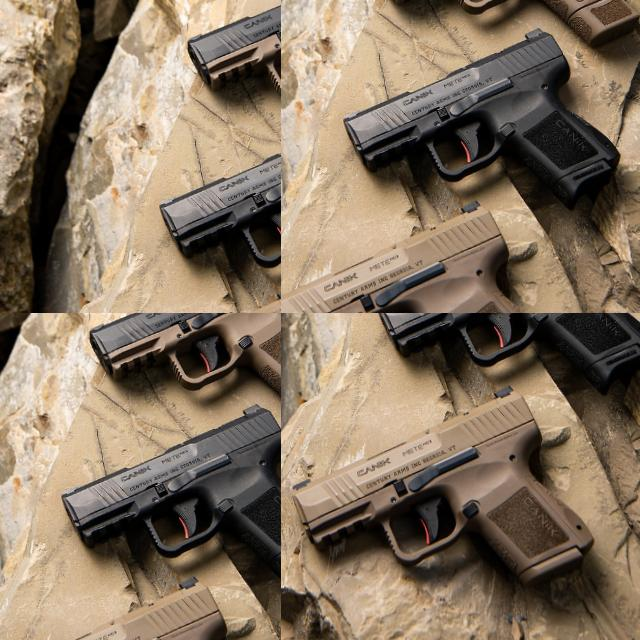handgun: (281, 0, 640, 313), (286, 377, 598, 604), (372, 313, 640, 412), (399, 313, 640, 407), (89, 135, 281, 246), (5, 322, 50, 360)
